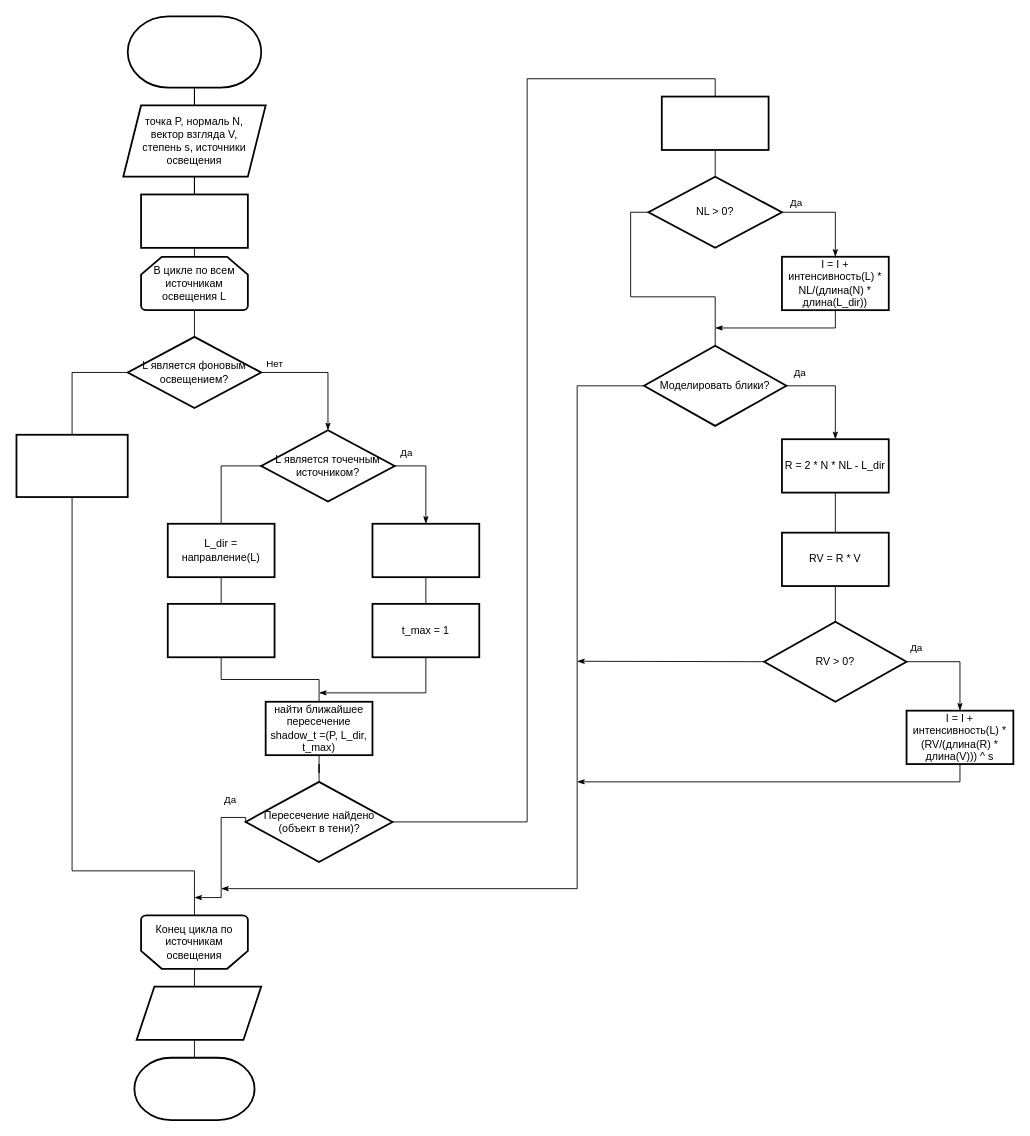
This 1030x1136 diagram has some shape labels left out. Here are the shapes that lost their labels. From the top down, the box of each, then its label:
(126, 15, 262, 88): Начало программы
(660, 95, 769, 150): NL= N * L_dir
(140, 193, 248, 248): I = 0
(15, 433, 128, 498): I = I + интенсивность(L)
(371, 522, 480, 578): L_dir = позиция(L)-P
(166, 603, 275, 658): t_max = бск
(135, 985, 262, 1040): интенсивность I
(133, 1056, 255, 1121): Конец программы
